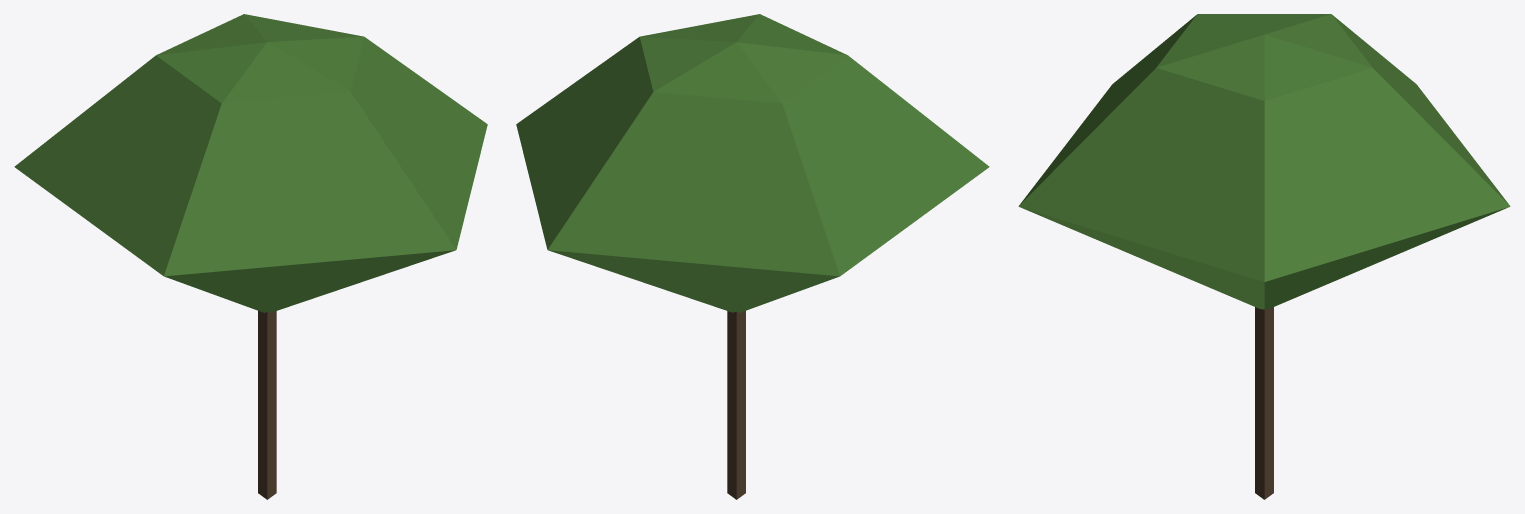
Rendered from small-tree.L0.722460b5.glb.
3 views of the same model, side by side, from view 1: azimuth 30°, elevation 25°; view 2: azimuth 150°, elevation 25°; view 3: azimuth 270°, elevation 25° (orthographic).
Parts seen in each view (by area): view 1: A-TREES-SMALL-TREE; view 2: A-TREES-SMALL-TREE; view 3: A-TREES-SMALL-TREE.
Part boxes in pixels (bbox=[...]): A-TREES-SMALL-TREE: bbox=[14, 14, 487, 499]; A-TREES-SMALL-TREE: bbox=[516, 14, 989, 499]; A-TREES-SMALL-TREE: bbox=[1018, 14, 1510, 499].
Bounding box in the file's own units: 5.07 × 5.5 × 5.33.
